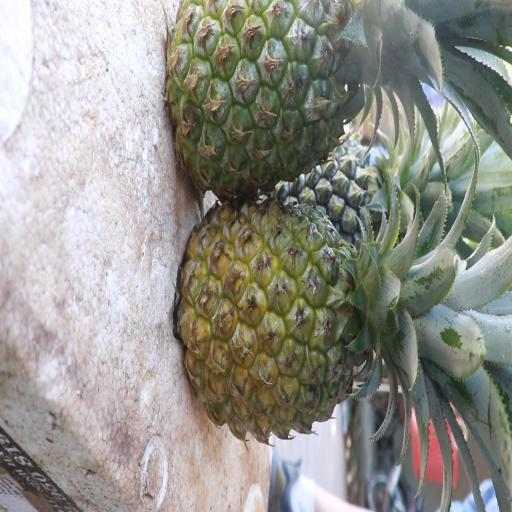------------------------------: (166, 0, 404, 190)
Pineapple - v8 v1: (184, 198, 417, 452)
